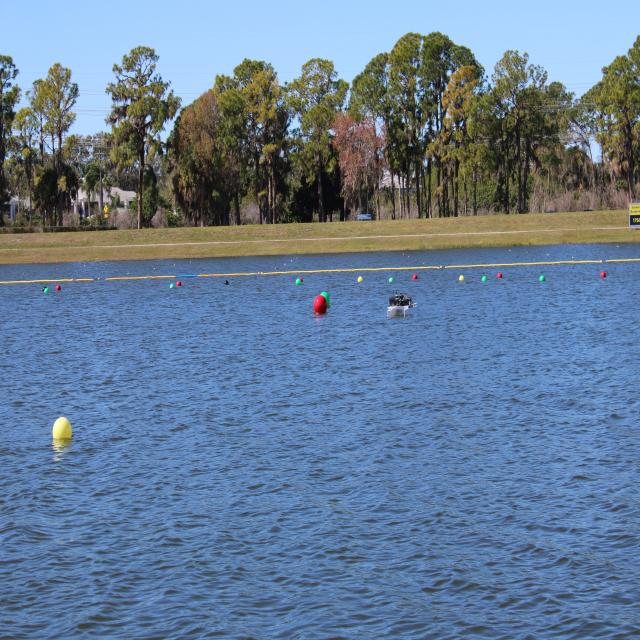green-buoy: (295, 278, 301, 286), (386, 278, 392, 285)
red-buoy: (314, 296, 328, 315), (600, 271, 607, 280), (497, 273, 503, 280), (177, 280, 182, 288)
yellow-buoy: (54, 417, 74, 441), (358, 276, 363, 284), (459, 276, 465, 282)
